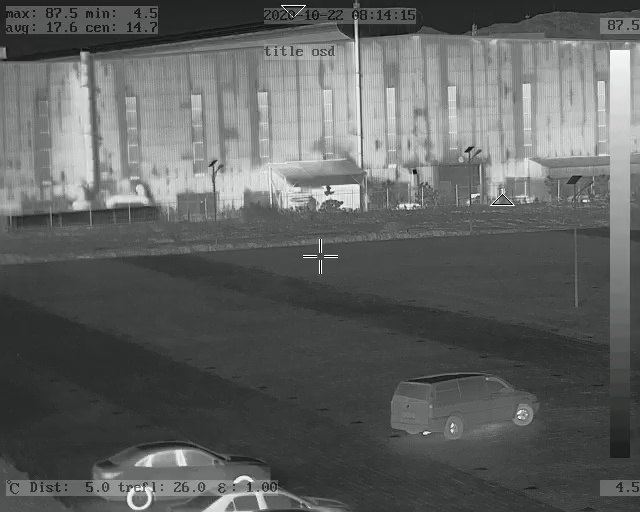vehicle: (90, 442, 280, 508), (389, 369, 544, 436), (173, 482, 342, 512)
